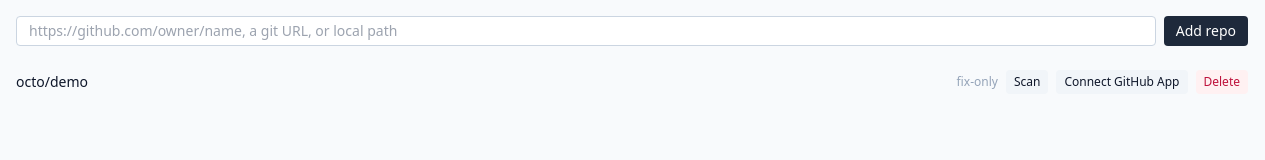
it: scans a repo and shows feedback
This screenshot has width=1265, height=160.
Expected: the text "octo/demo" is shown, [16, 72, 88, 92]
Click the button "Scan". click: (1027, 82)
box: [1006, 70, 1048, 94]
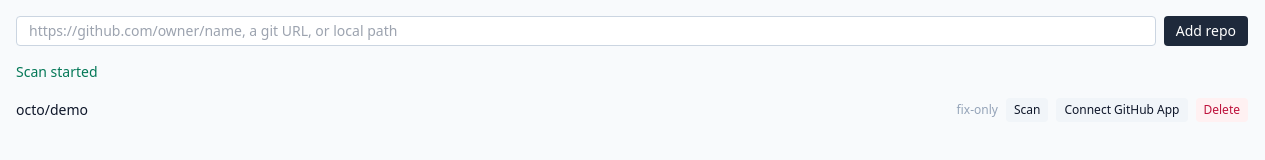
Now the text "Scan started" is shown, box [16, 62, 98, 81]
